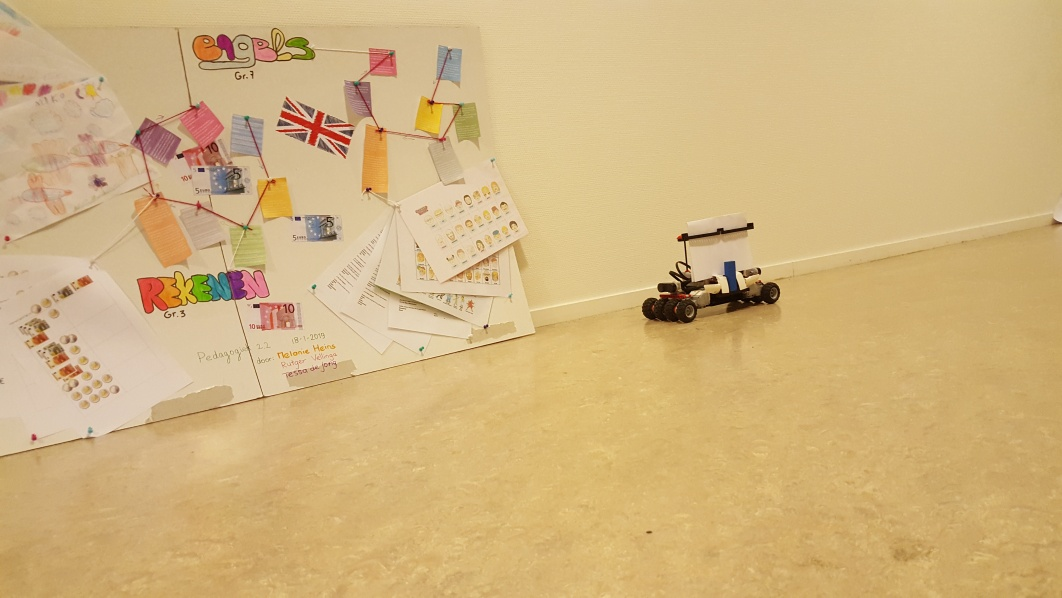beam: (721, 257, 740, 298)
